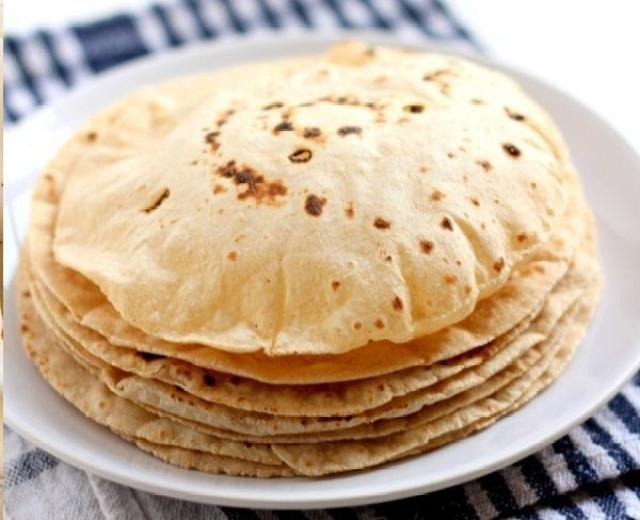chapati: (18, 42, 601, 475)
